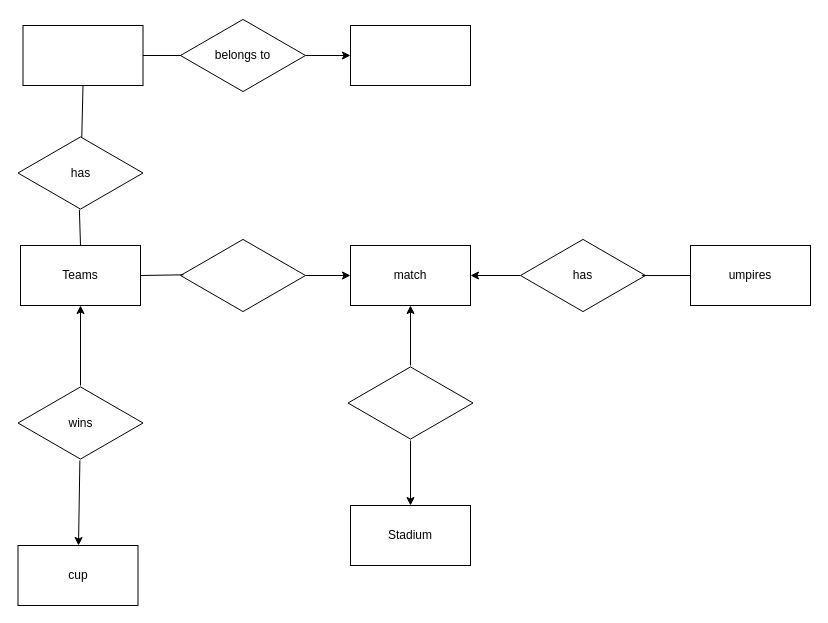
The diagram is 828 pixels wide and 623 high, and some of its shapes have lost their labels. Each missing label, with the box of its shape:
Country: (350, 24, 470, 86)
played: (180, 237, 306, 313)
played in: (347, 364, 473, 440)
Players: (22, 24, 143, 86)
